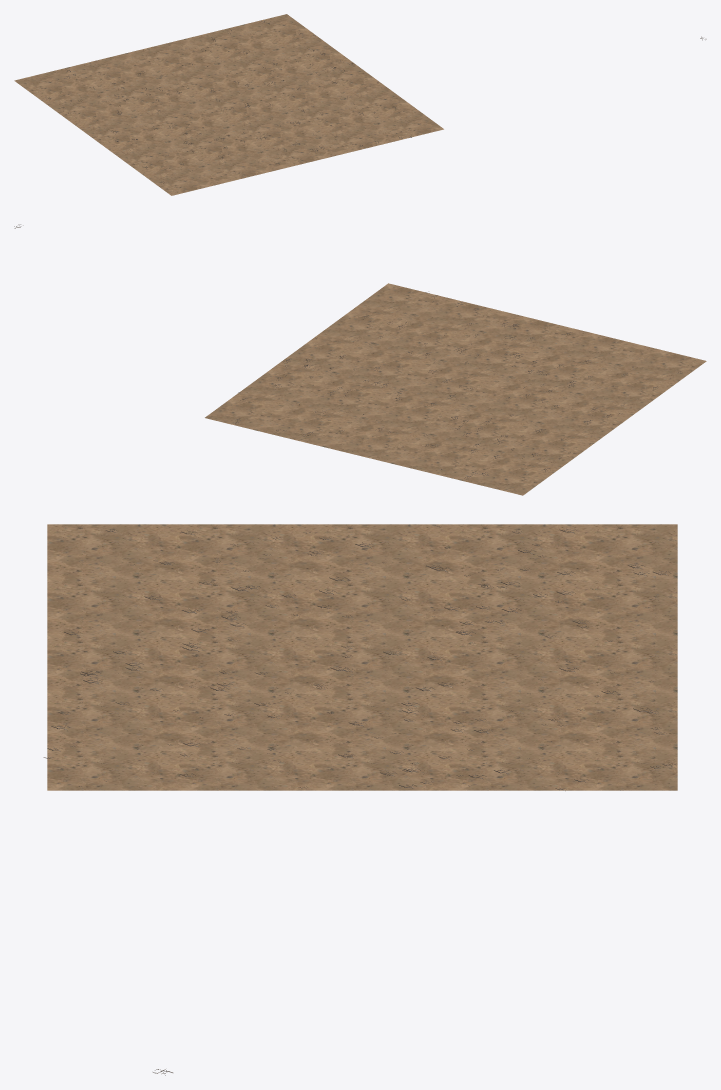
The model's file is runtime-drybrush.glb.
3 renders of one model, top to bottom at view 1: azimuth 30°, elevation 25°; view 2: azimuth 150°, elevation 25°; view 3: azimuth 270°, elevation 25°, orthographic. The views are drawn at different scales.
Parts seen in each view (by area): view 1: Ground; view 2: Ground; view 3: Ground.
Part boxes in pixels (bbox=[...]): Ground: bbox=[14, 14, 443, 195]; Ground: bbox=[205, 283, 706, 495]; Ground: bbox=[47, 524, 677, 790].
Size of the model in its own units: 24.87 by 0.0665 by 12.11.
Materials: 2 (2 with a texture image).
